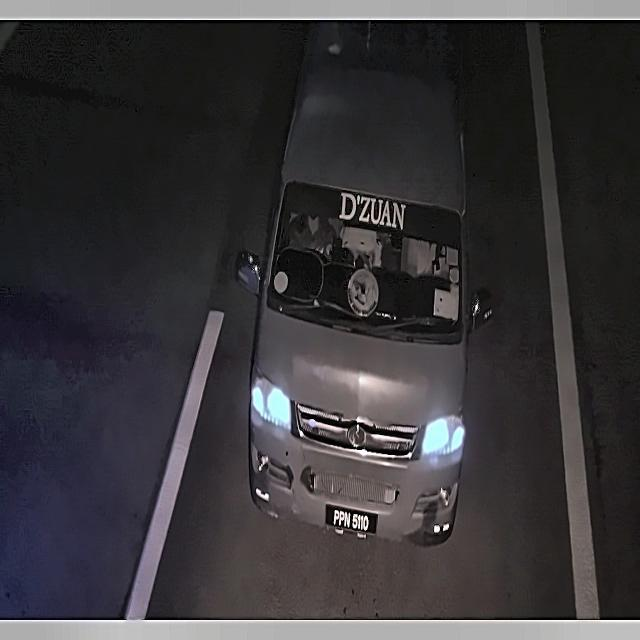car: (323, 502, 379, 540)
